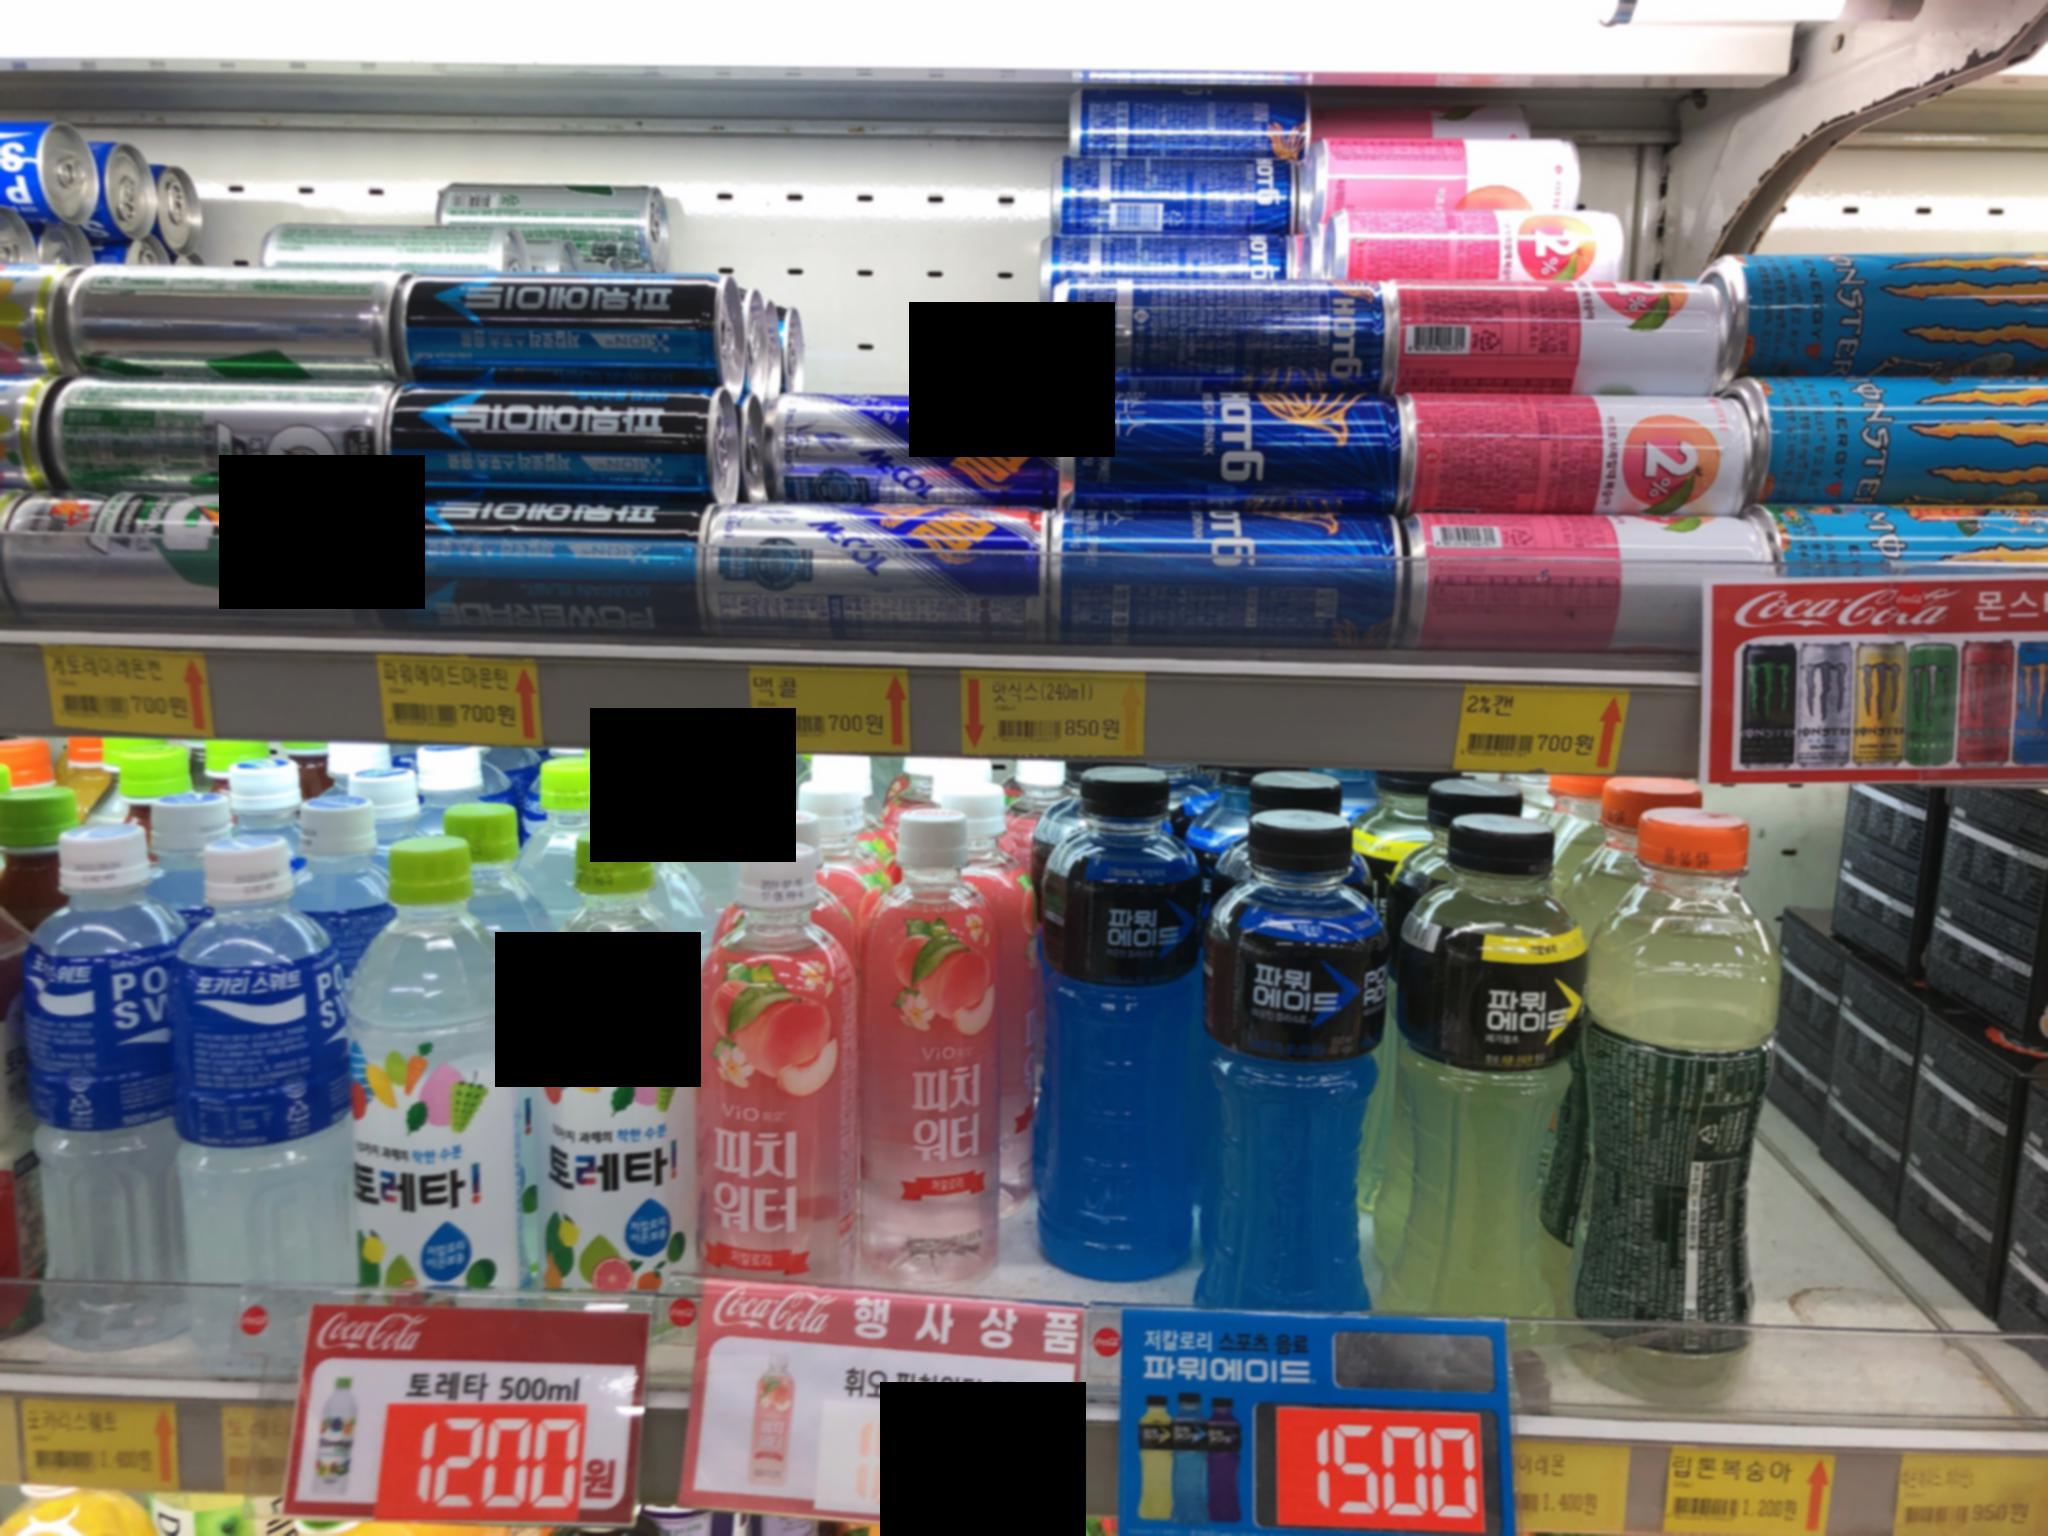gatorade_lemon: (1587, 803, 1779, 1397)
hotsix_org: (1055, 381, 1414, 487)
pocarisweat: (182, 845, 319, 1349), (40, 836, 171, 1341)
powerade_mountainblast: (1035, 781, 1221, 1281), (1227, 789, 1379, 1317)
toreta: (332, 842, 516, 1297), (535, 839, 677, 1281)
